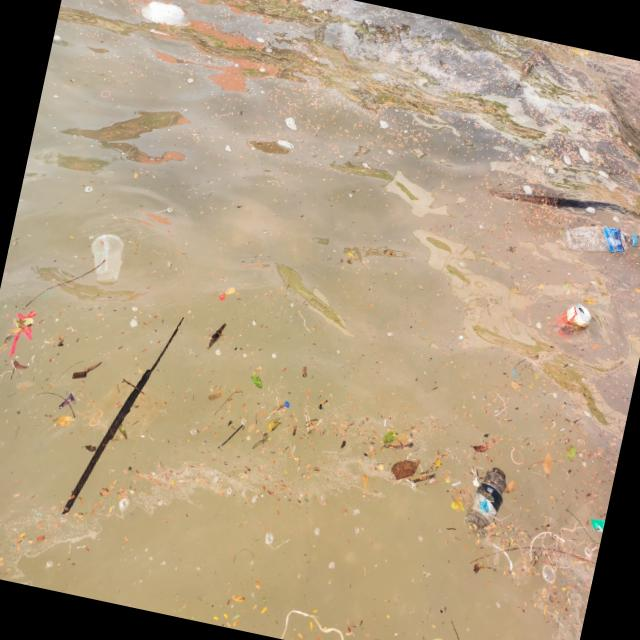can: (551, 299, 596, 342)
foam: (137, 1, 193, 31)
plastic bottle: (464, 464, 514, 540), (559, 219, 640, 263)
